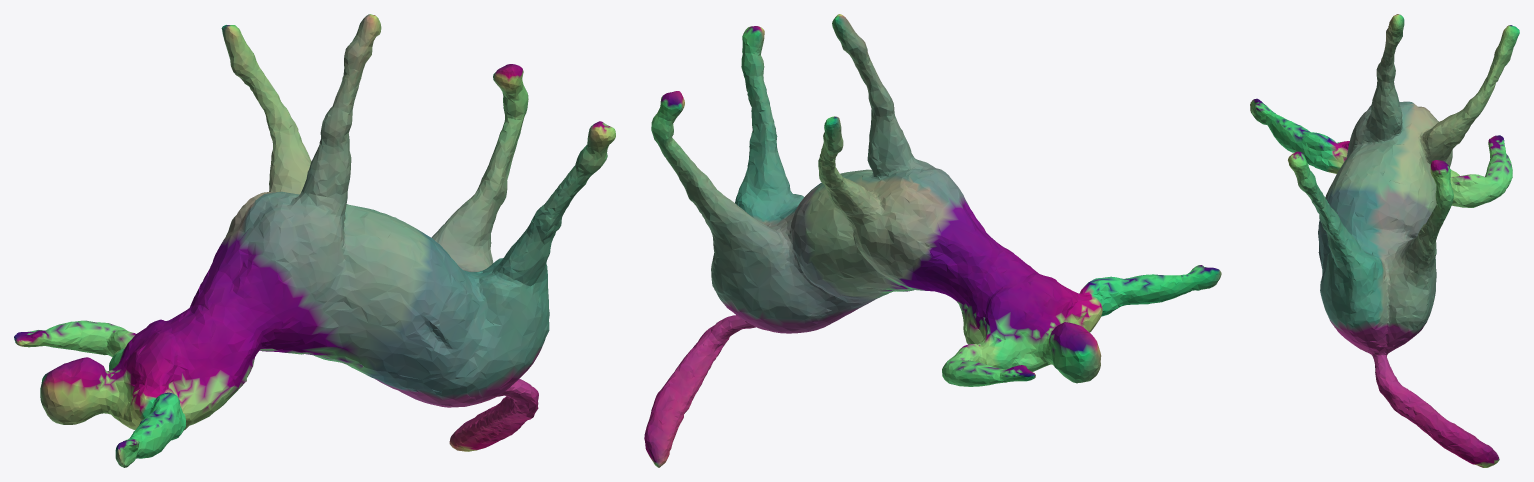
File: centaur-11.off.obj
3 renders of one model, left to right at view 1: azimuth 30°, elevation 25°; view 2: azimuth 150°, elevation 25°; view 3: azimuth 270°, elevation 25°, orthographic. The views are drawn at different scales.
Bounding box in the file's own units: 1.37 × 1.27 × 0.7834.
